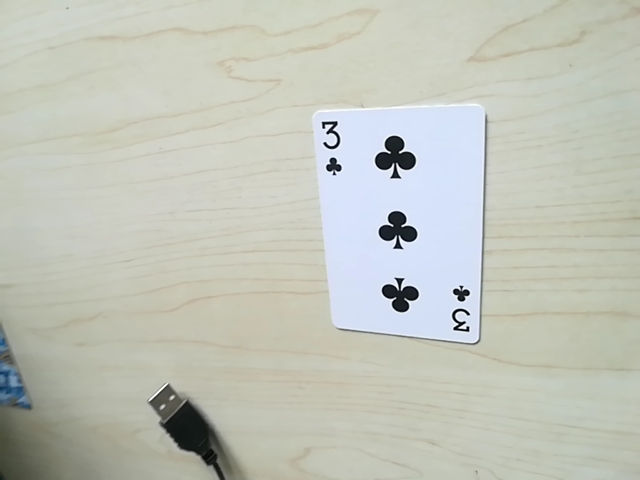mh 3: (311, 115, 350, 179), (449, 289, 476, 342)
